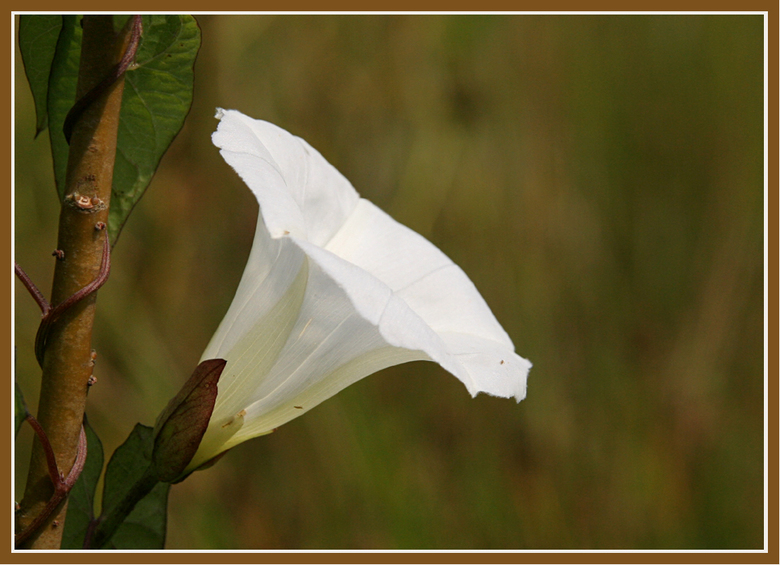haagwinde: (113, 83, 564, 482)
